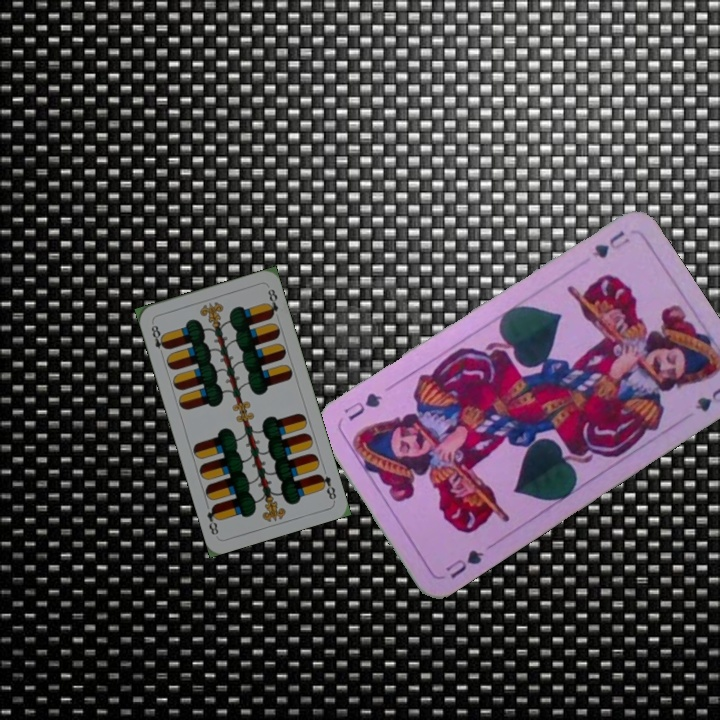E8: (147, 318, 170, 358), (314, 470, 339, 502)
GU: (441, 545, 487, 581), (588, 226, 632, 261)
